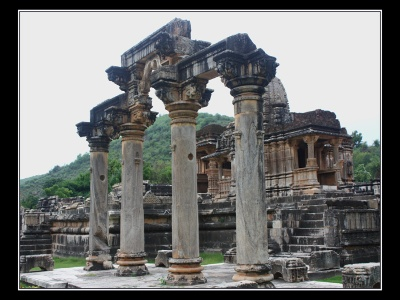gopuram: (59, 17, 280, 271)
